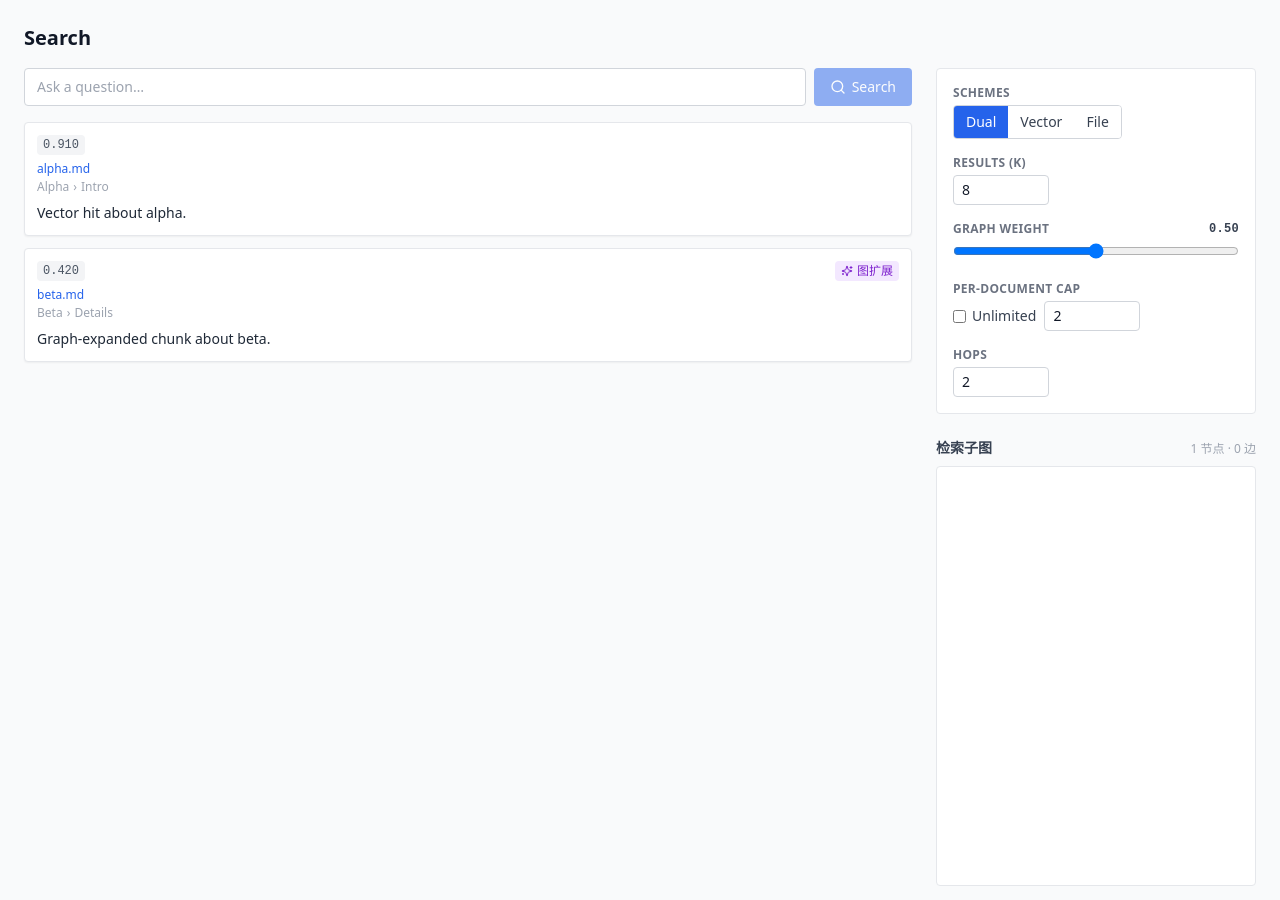
Scenario: SearchPage › renders one column per selected scheme when multiple are chosen
Select vector and file in addition to dual via the scheme toggles.
Click the checkbox labelled "vector": (1041, 122) [1008, 106, 1074, 138]
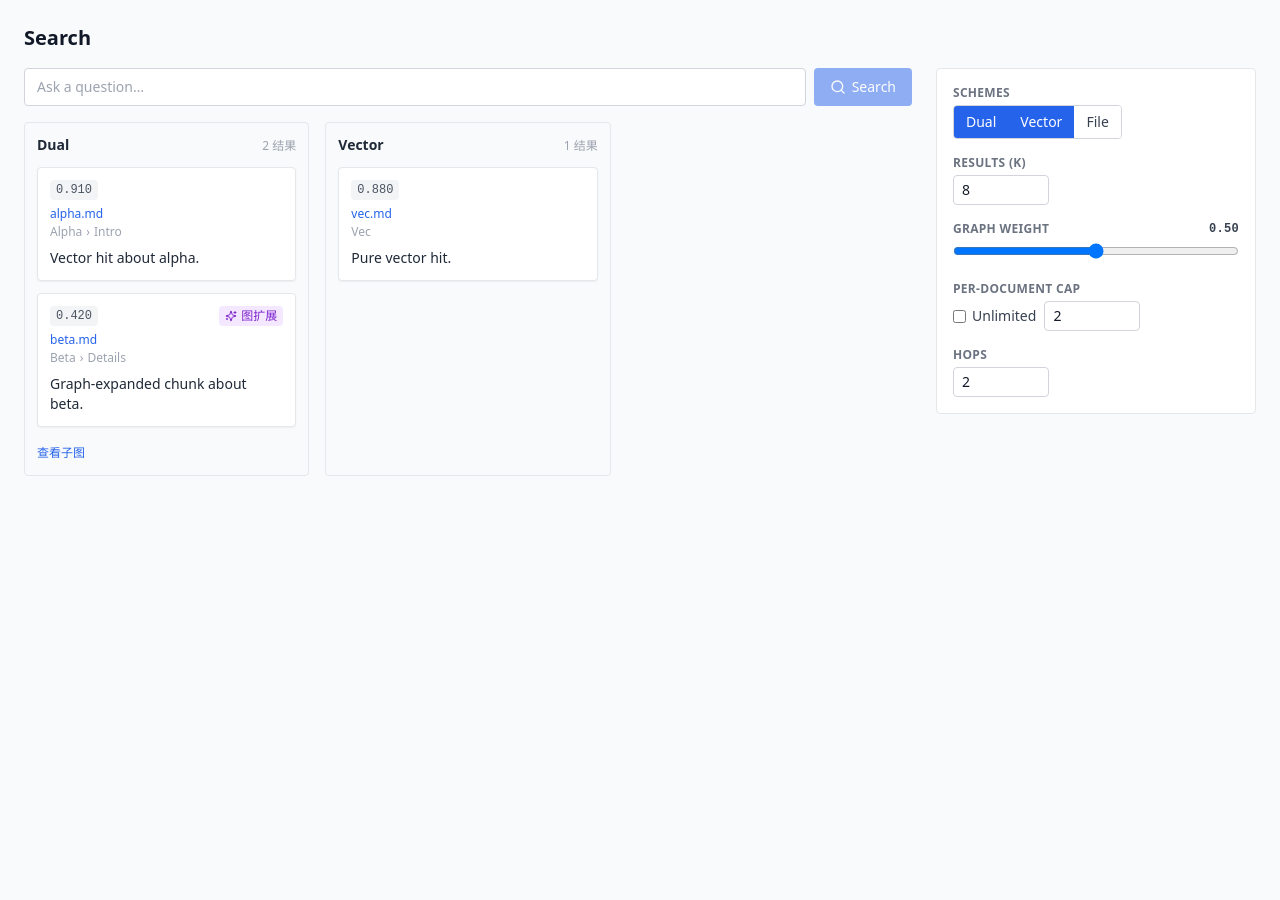
Click the checkbox labelled "file": (1098, 122) [1074, 106, 1121, 138]
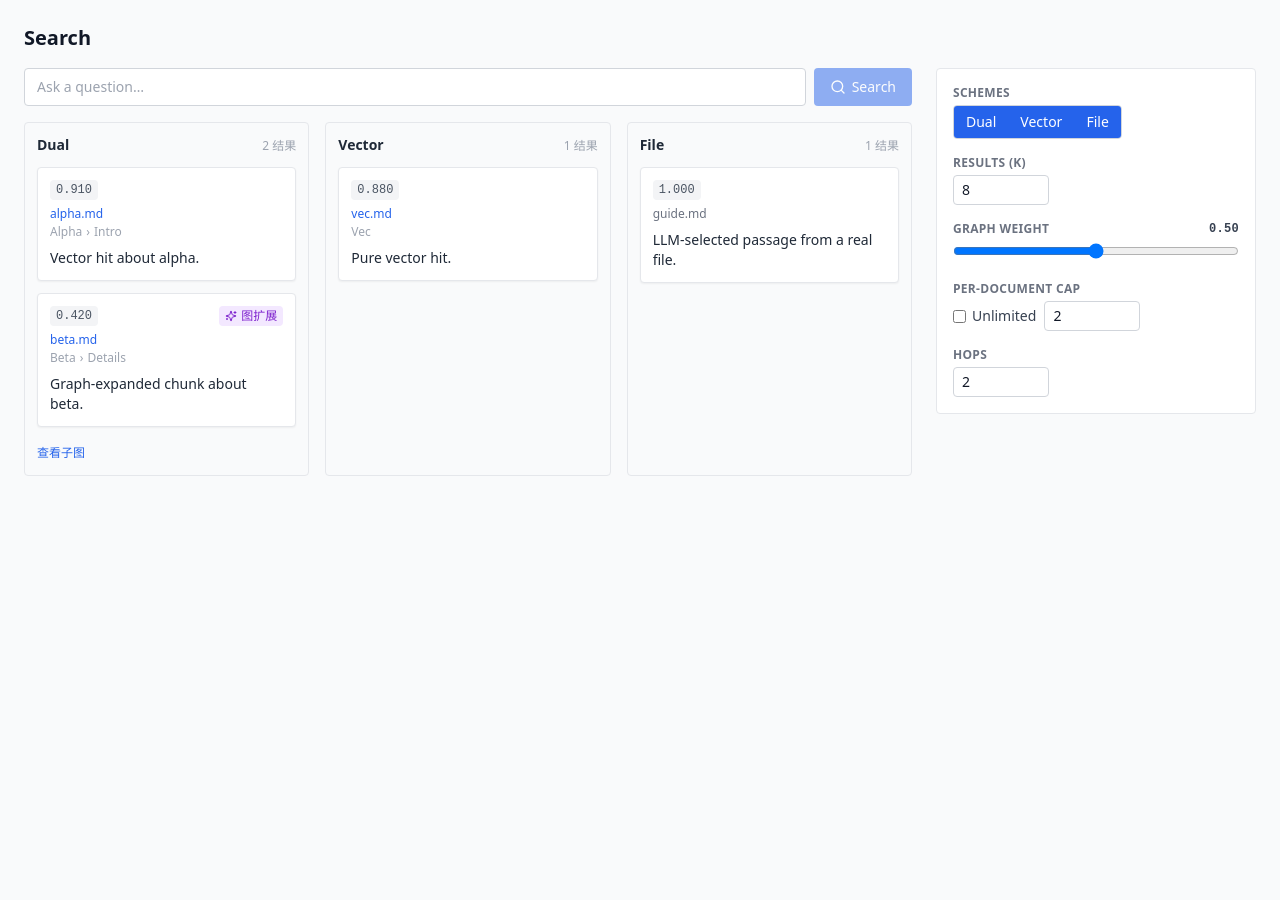
Expected: the text "Pure vector hit." is shown, [351, 248, 451, 267]
Expected: the text "2 结果" is shown, [262, 138, 296, 154]
Expected: the text "LLM-selected passage from a real file." is shown, [653, 230, 886, 270]
